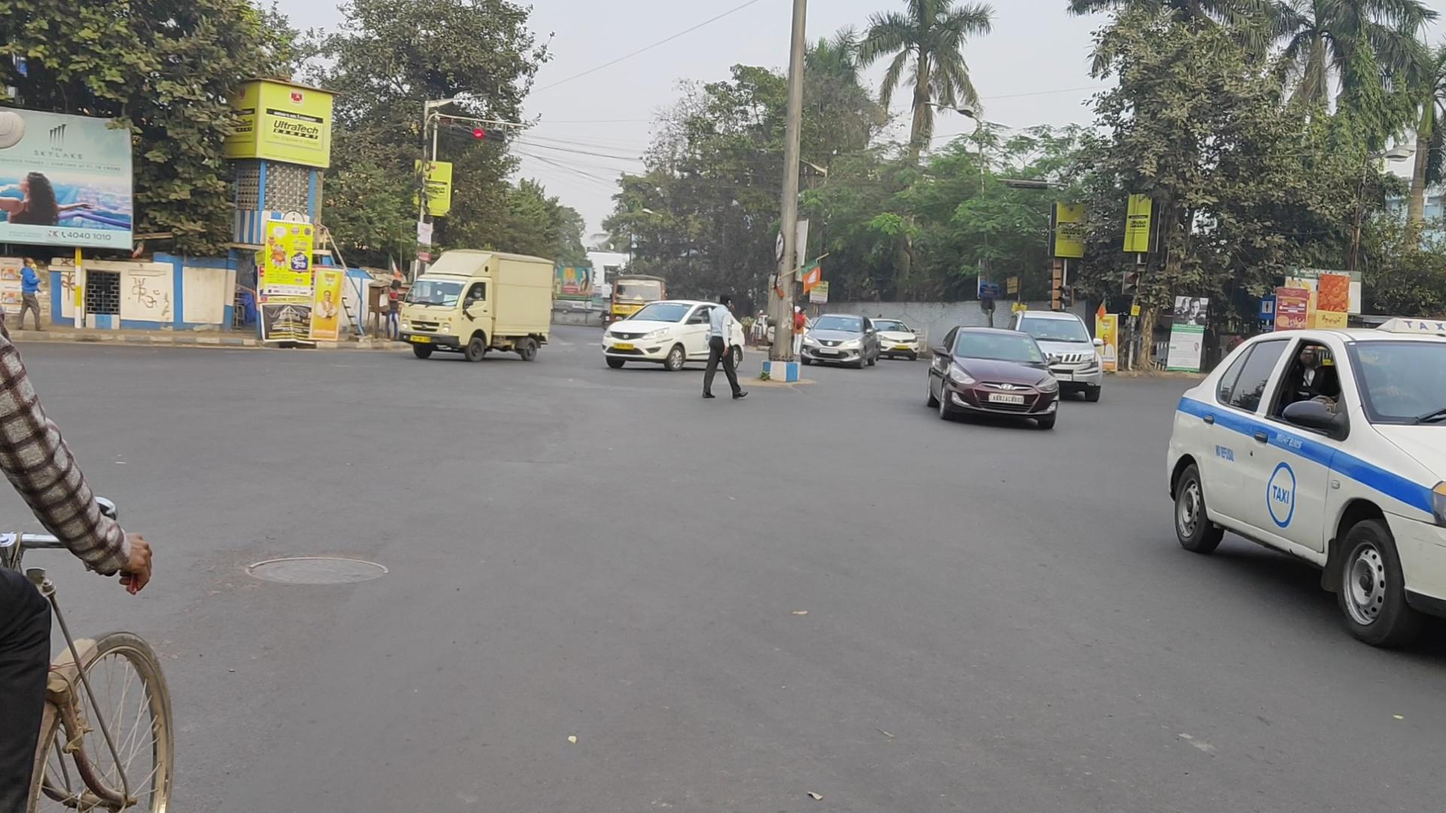Bus: (610, 274, 666, 341)
car: (1165, 319, 1446, 656), (927, 326, 1059, 430), (602, 300, 746, 373), (1008, 310, 1103, 403), (800, 313, 879, 370), (868, 317, 920, 361)
van: (398, 249, 555, 362)
